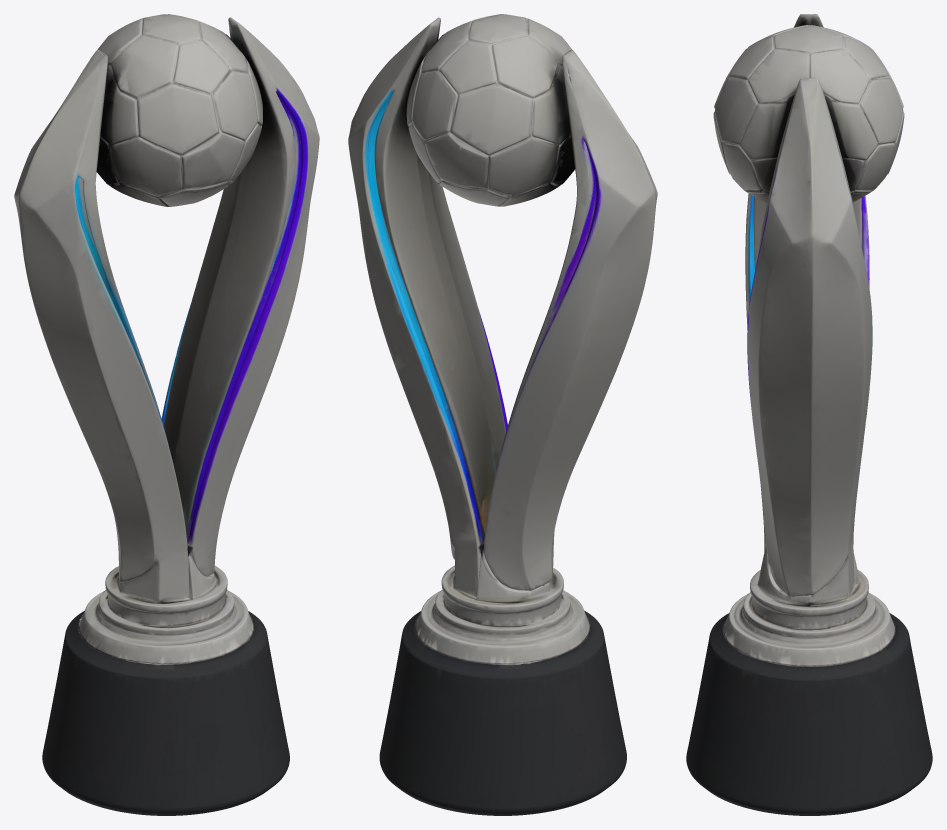
File: champion.glb
3 views of the same model, side by side, from view 1: azimuth 30°, elevation 25°; view 2: azimuth 150°, elevation 25°; view 3: azimuth 270°, elevation 25° (orthographic).
Parts seen in each view (by area): view 1: node_0; view 2: node_0; view 3: node_0.
Part boxes in pixels (x1,y1,x2,y2): node_0: (14,14,319,815); node_0: (348,14,657,815); node_0: (686,14,932,815).
Size of the model in its own units: 0.4874 by 1.15 by 0.3509.
1 material, 1 textured.
